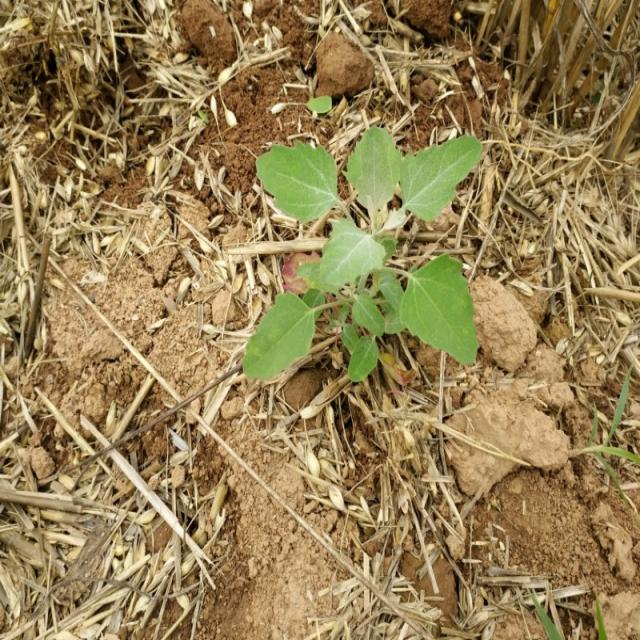ca: (244, 130, 482, 382)
